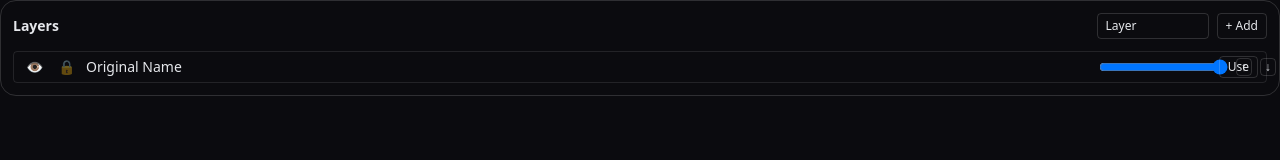
LayersPanel › rename layer › should enter edit mode on layer name click
Click the text "Original Name": (134, 66) top-left (86, 57), bottom-right (182, 76)
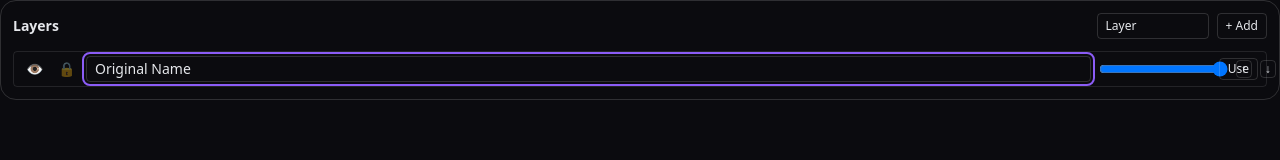
Result: the 2nd field showing "Original Name" is shown at top-left (86, 56), bottom-right (1091, 82)
